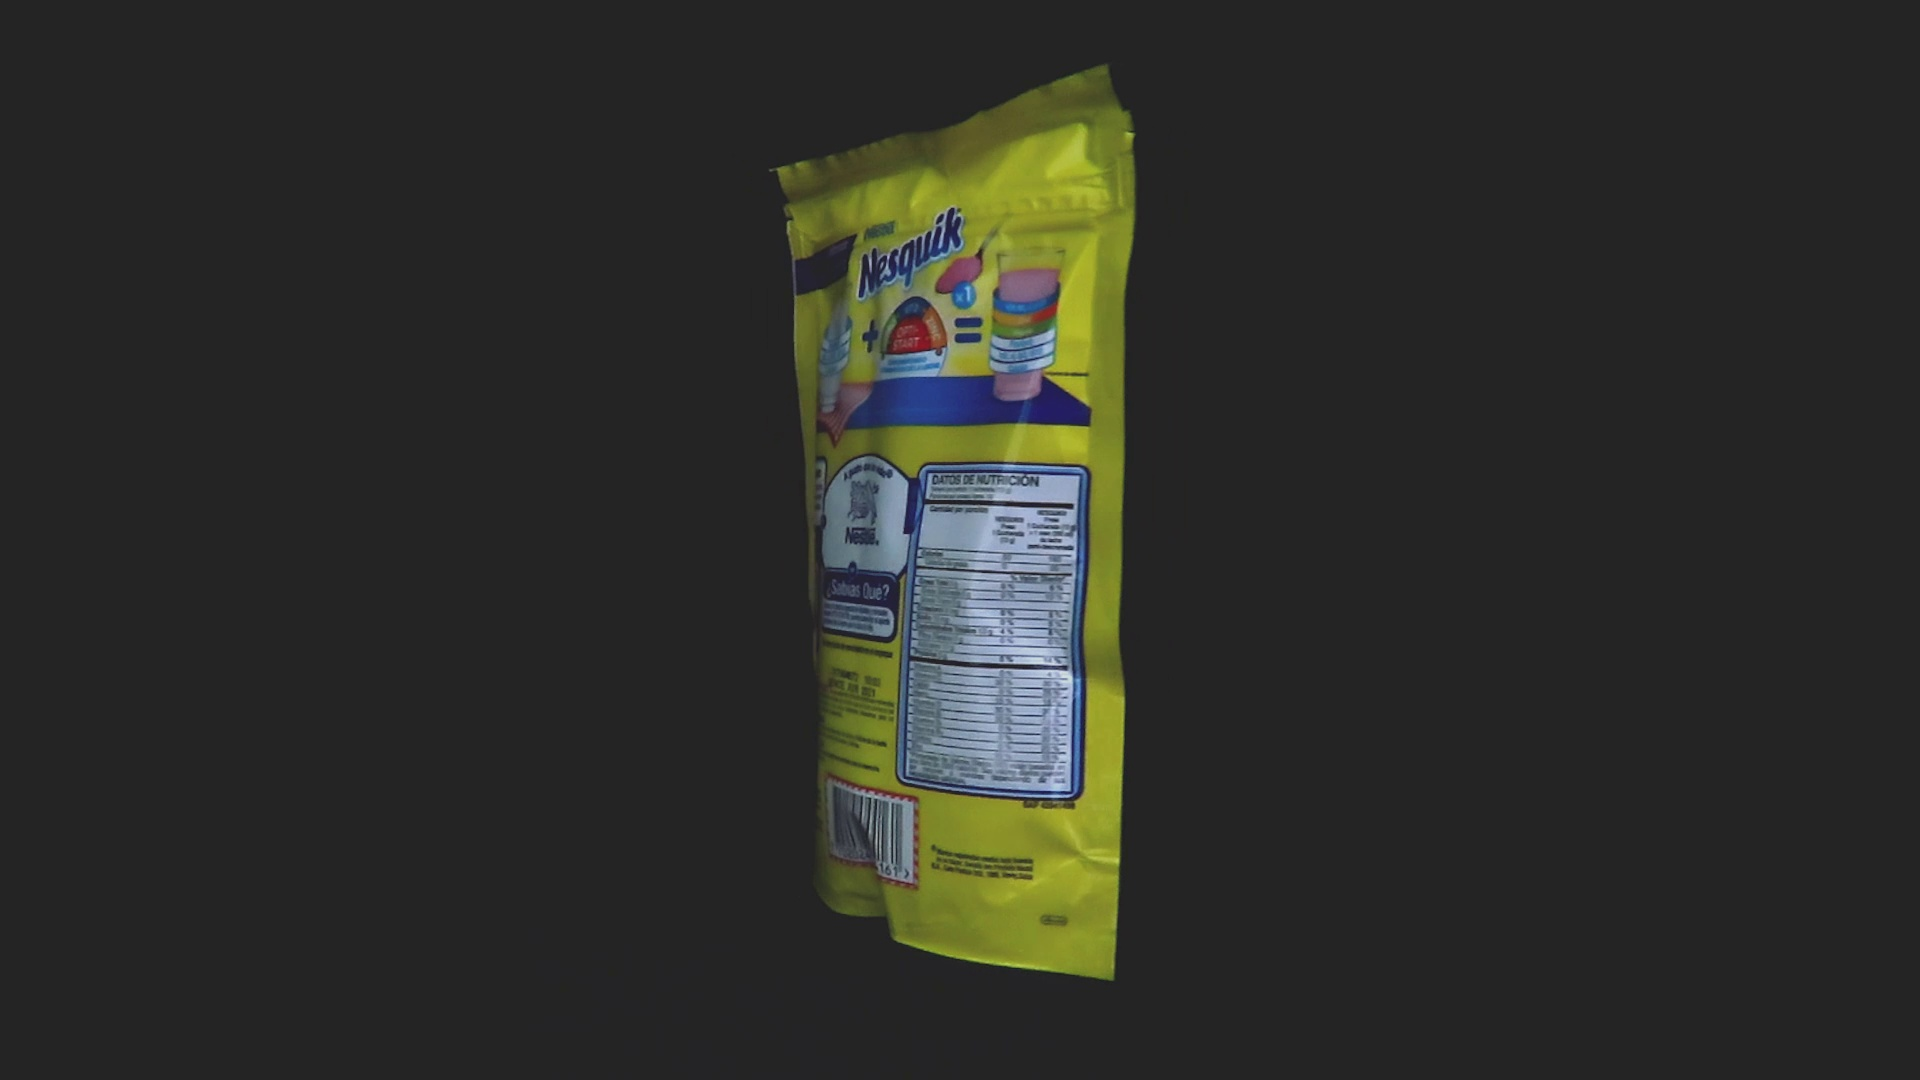COL0170305DYP20000: (764, 150, 1098, 897)
